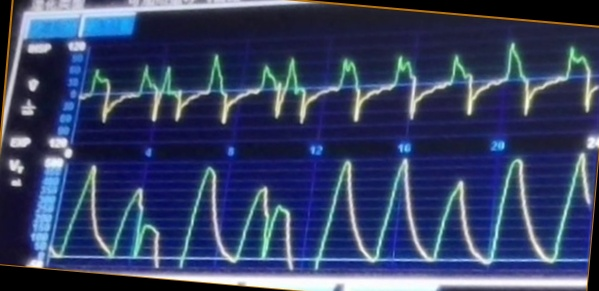Double_Triggering Flow: (89, 43, 596, 131)
Double_Triggering Volume: (66, 155, 591, 267)
